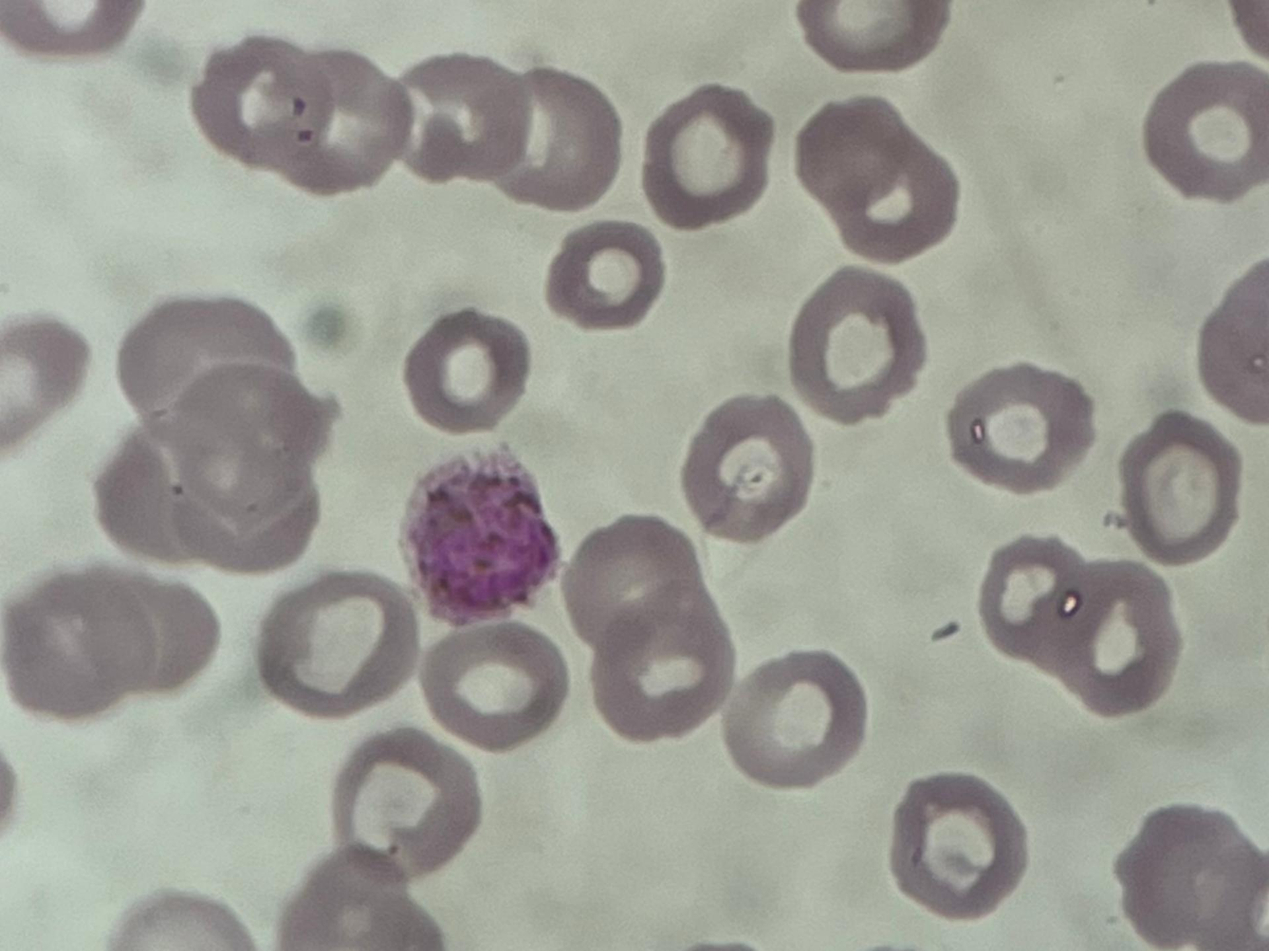Infected: (400, 443, 566, 619)
Uninfected: (99, 384, 325, 580), (560, 520, 731, 742), (983, 539, 1177, 717), (196, 38, 408, 196), (4, 567, 212, 718), (794, 96, 959, 264), (256, 572, 420, 718), (117, 295, 303, 421), (791, 263, 930, 428), (335, 728, 481, 877), (887, 773, 1029, 921), (681, 391, 817, 545), (720, 653, 866, 789), (1112, 806, 1258, 942), (420, 623, 572, 753), (944, 363, 1091, 494), (640, 85, 774, 228), (1114, 414, 1238, 561), (1141, 61, 1269, 202), (400, 56, 530, 186), (401, 310, 532, 436), (502, 75, 619, 209), (280, 853, 443, 947), (546, 216, 668, 331), (3, 318, 87, 455)
